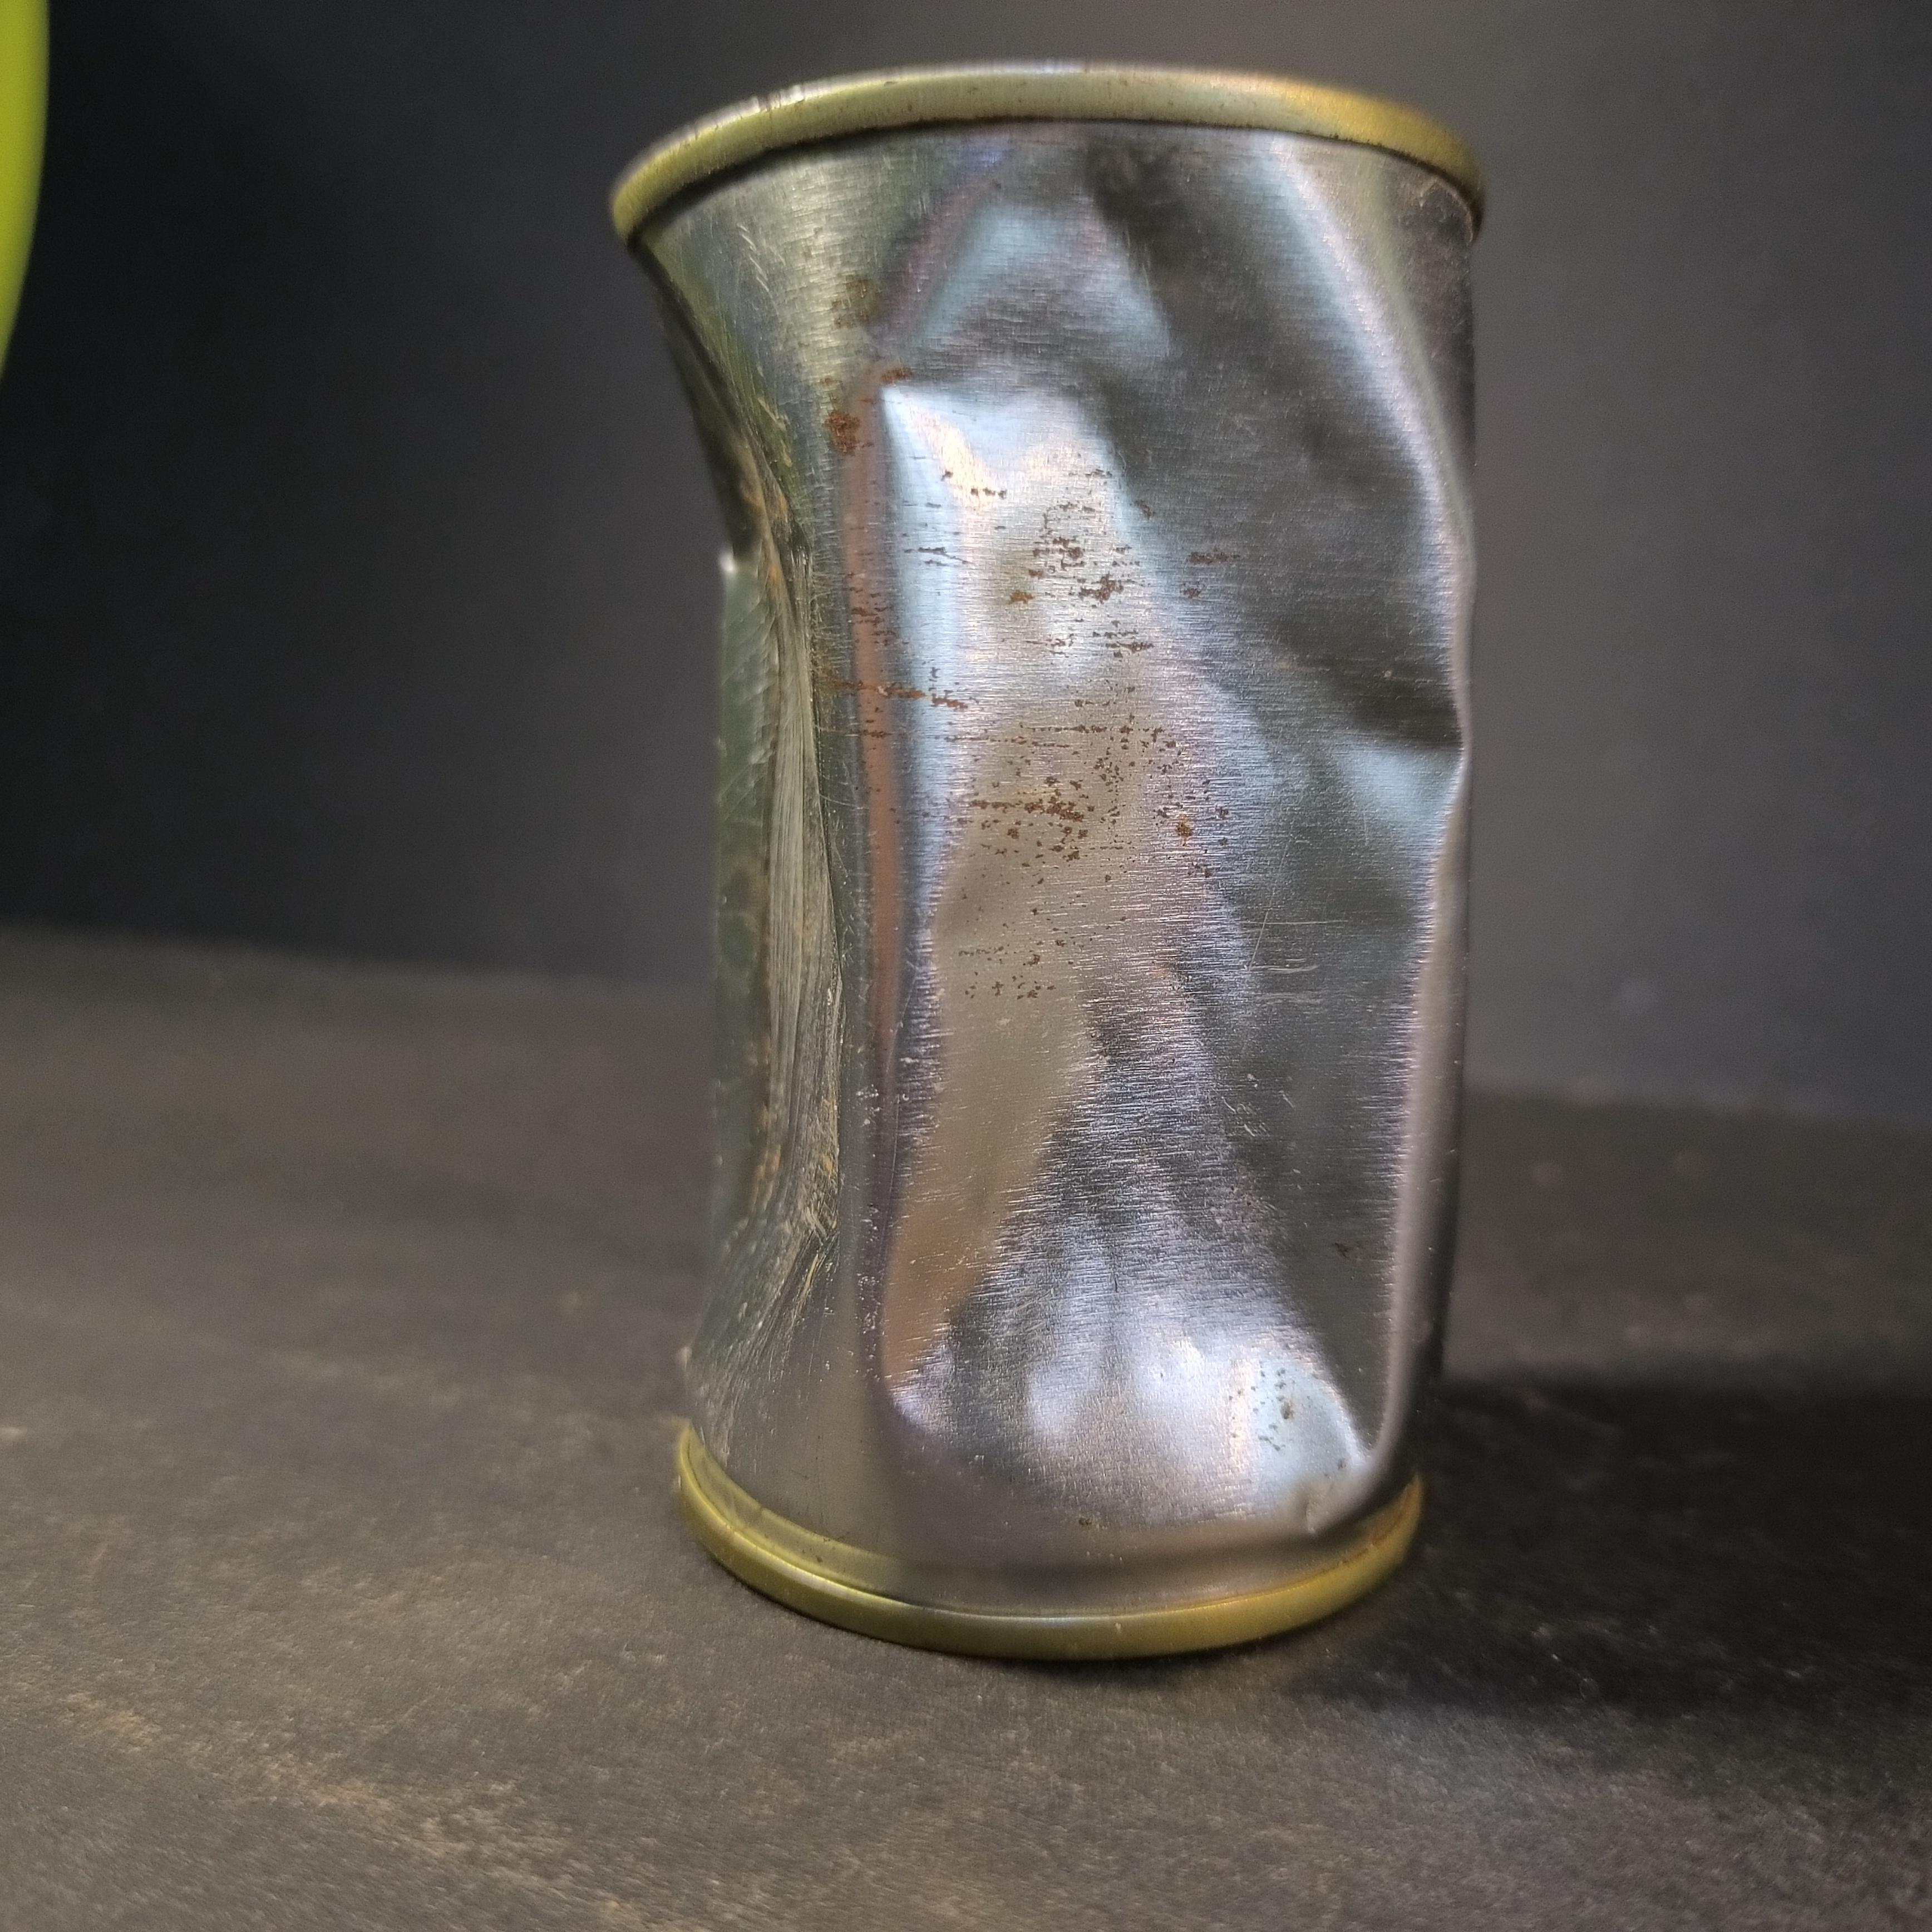Dented: (568, 16, 1522, 1672)
